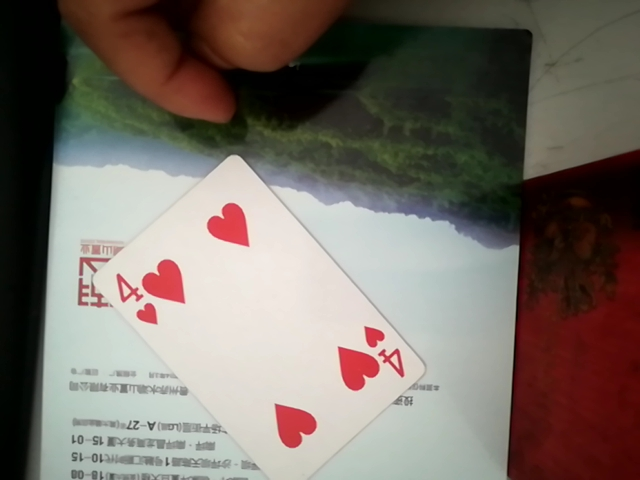hx 4: (44, 152, 440, 476)
